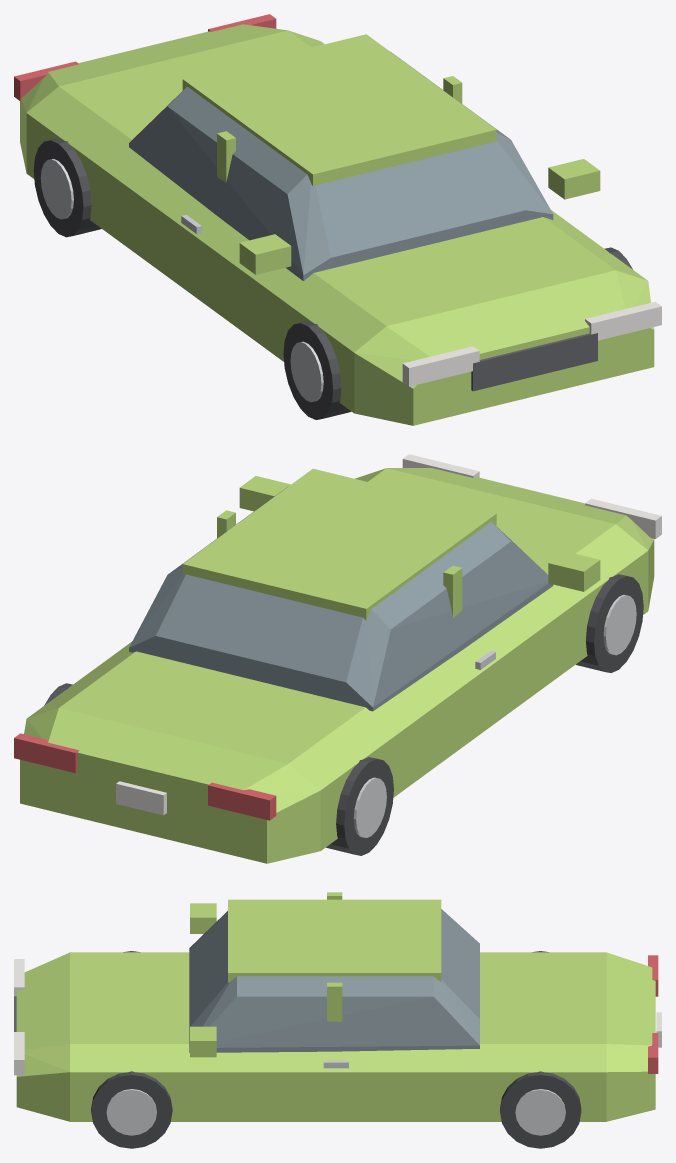
The model's file is revuelto-2026.glb.
The picture shows the model from 3 angles, top to bottom: view 1: azimuth 30°, elevation 25°; view 2: azimuth 150°, elevation 25°; view 3: azimuth 270°, elevation 25°; orthographic projection. The views are drawn at different scales.
Parts seen in each view (by area): view 1: body, cabin_glass, roof, grille, wheel_-1_1_tire, wheel_-1_-1_tire, headlight_-1, headlight_1, mirror_-1, mirror_1, wheel_-1_1_rim, wheel_-1_-1_rim (+2 smaller); view 2: body, cabin_glass, roof, wheel_-1_1_tire, wheel_-1_-1_tire, taillight_-1, mirror_-1, taillight_1, wheel_-1_1_rim, wheel_-1_-1_rim, rear_plate, mirror_1 (+3 smaller); view 3: body, cabin_glass, roof, wheel_1_-1_tire, wheel_1_1_tire, wheel_1_1_rim, wheel_1_-1_rim, mirror_1, mirror_-1, pillar_1, headlight_1, taillight_1.
Boxes of the visible parts, x1,y1,x2,y2 form: body: (20, 24, 654, 425); cabin_glass: (129, 51, 553, 280); roof: (182, 34, 496, 185); grille: (471, 333, 597, 391); wheel_-1_1_tire: (283, 321, 351, 419); wheel_-1_-1_tire: (33, 138, 101, 237); headlight_-1: (402, 346, 479, 386); headlight_1: (585, 301, 661, 340); mirror_-1: (239, 234, 291, 274); mirror_1: (548, 159, 600, 199); wheel_-1_1_rim: (290, 341, 323, 402); wheel_-1_-1_rim: (40, 159, 73, 219); body: (20, 468, 654, 863); cabin_glass: (129, 487, 553, 711); roof: (182, 468, 496, 620); wheel_-1_1_tire: (576, 574, 643, 672); wheel_-1_-1_tire: (326, 757, 393, 855); taillight_-1: (208, 782, 276, 820); mirror_-1: (548, 551, 600, 591); taillight_1: (14, 733, 78, 773); wheel_-1_1_rim: (603, 594, 636, 655); wheel_-1_-1_rim: (353, 777, 386, 837); rear_plate: (116, 781, 166, 815); mirror_1: (239, 476, 290, 511); body: (16, 952, 655, 1121); cabin_glass: (189, 909, 479, 1052); roof: (228, 899, 441, 982); wheel_1_-1_tire: (500, 1071, 581, 1148); wheel_1_1_tire: (91, 1071, 172, 1148); wheel_1_1_rim: (106, 1089, 156, 1135); wheel_1_-1_rim: (515, 1089, 565, 1135); mirror_1: (190, 1026, 216, 1057); mirror_-1: (190, 903, 216, 933); pillar_1: (327, 982, 342, 1021); headlight_1: (14, 1032, 24, 1075); taillight_1: (648, 1033, 658, 1073).
Size of the model in its own units: 2.32 by 1.18 by 4.62.
